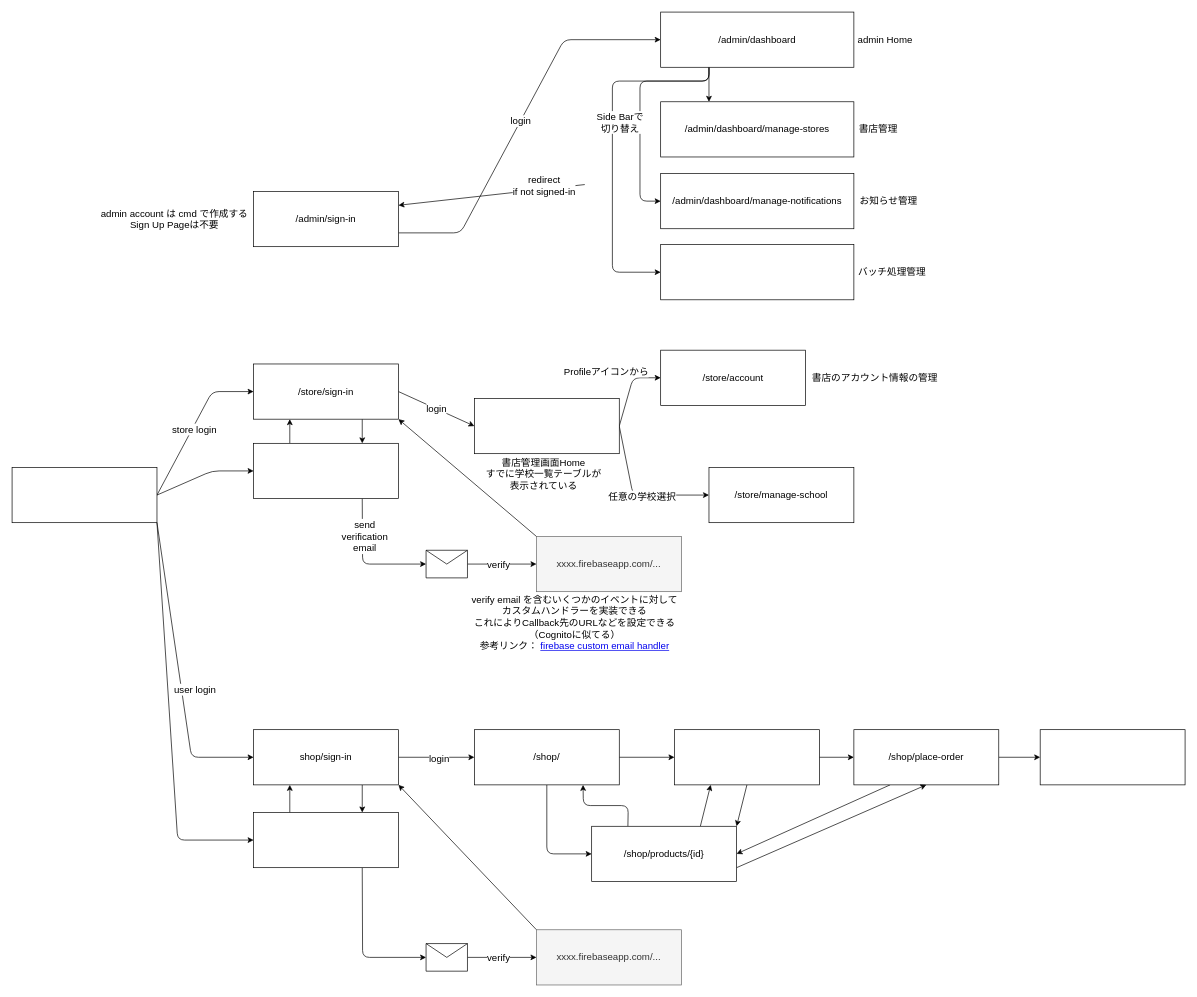
This 1197x997 diagram has some shape labels left out. Each missing label, with the centre of its shape:
/ ------------------- Home, 各ログインへ: [84,495]
/admin/dashboard/batch-cntrl: [757,272]
/shop/cart: [746,757]
/shop/place-order-completed: [1112,757]
/store: [546,426]
/store/sign-up: [325,471]
shop/sign-up: [325,840]
